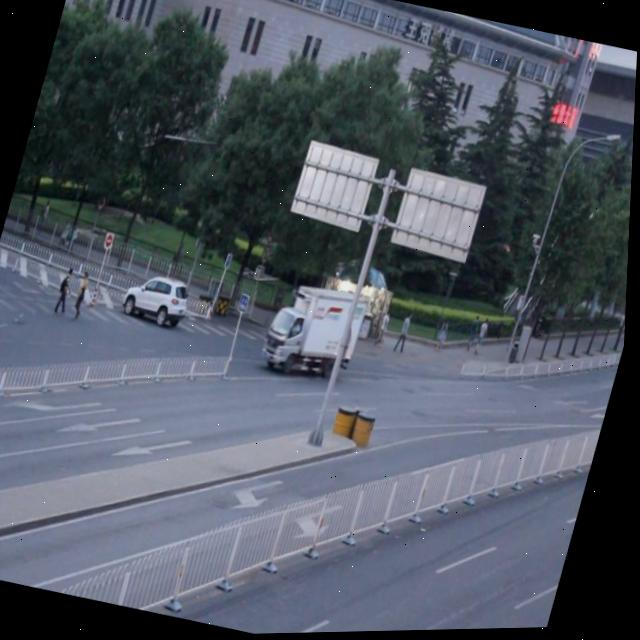bus: (258, 277, 373, 390)
car: (121, 265, 197, 329)
